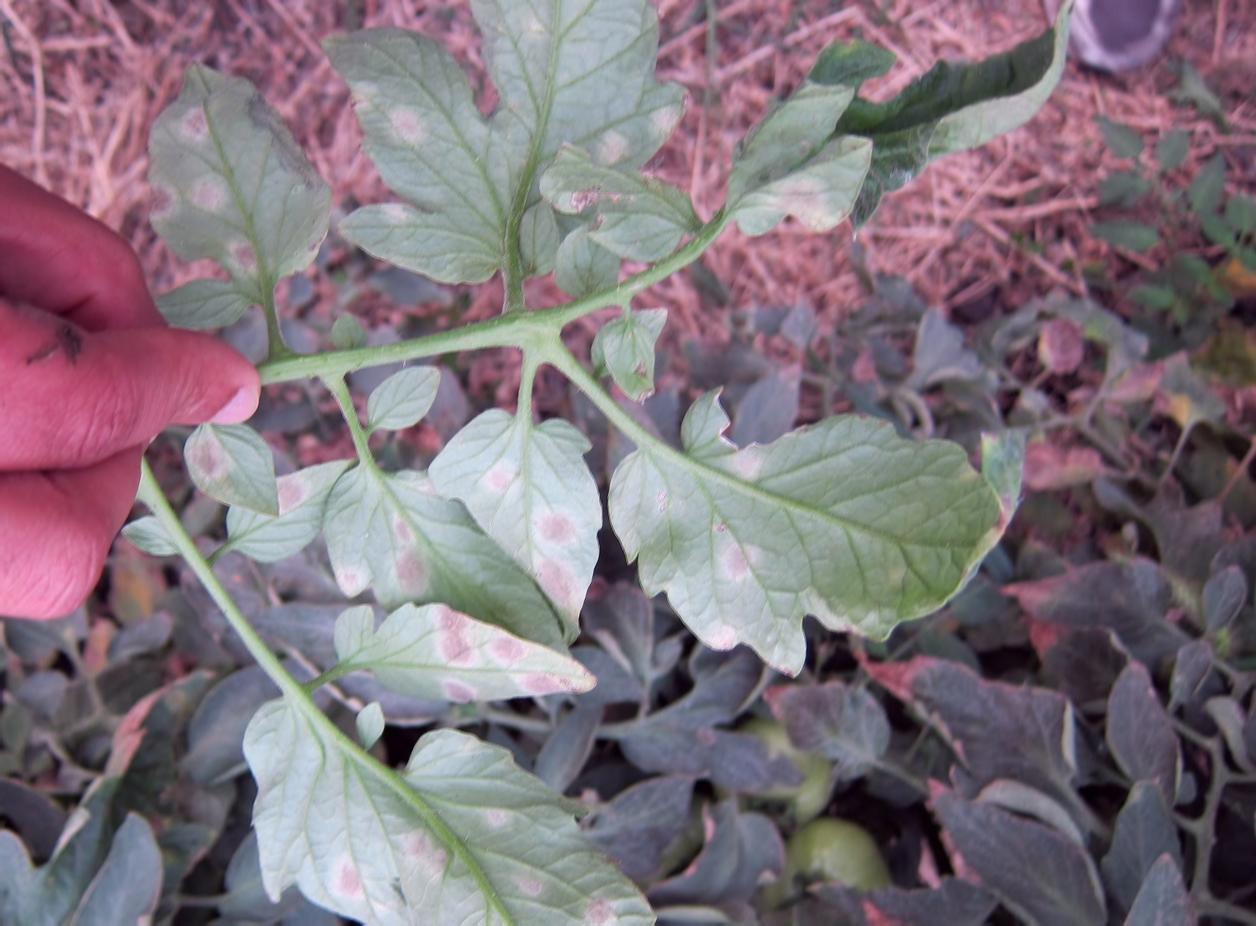Tomato mold leaf: (606, 402, 1084, 679), (254, 690, 672, 926), (324, 0, 676, 280), (726, 0, 1111, 247), (318, 453, 573, 671), (142, 57, 342, 330), (413, 401, 615, 651), (307, 608, 610, 735), (546, 138, 706, 272), (177, 422, 301, 543)
